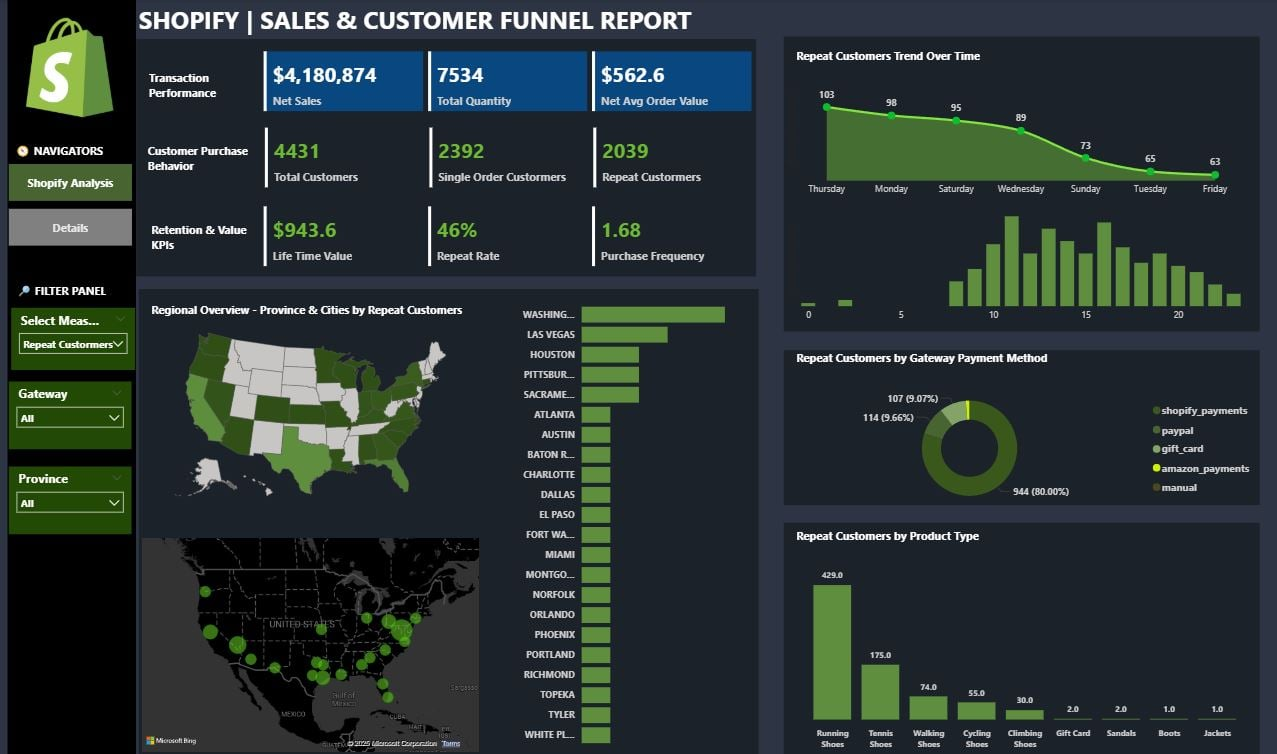

Layout of this report page (visuals, bound fields, positions):
{"tool":"powerbi","page":{"name":"Shopify Analysis","canvas":[1700,1000],"ordinal":0},"visuals":[{"type":"shape","box":[9.1,0,170,1000.5],"z":0},{"type":"textbox","box":[178.6,0,761.8,63.8],"z":1000},{"type":"shape","box":[180.2,52.9,820.1,314.2],"z":2000},{"type":"cardVisual","fields":{"Data":["shopify_sales.Net Sales","shopify_sales.Total Quantity","shopify_sales.Net Avg Order Value"]},"box":[343.9,64.5,656.4,89.3],"z":3000},{"type":"cardVisual","fields":{"Data":["shopify_sales.Transactipn Perf"]},"box":[180.2,64.5,162,89.3],"z":4000},{"type":"cardVisual","fields":{"Data":["shopify_sales.Total Customers","shopify_sales.Single Order Custormers","shopify_sales.Repeat Custormers"]},"box":[345.6,165.3,656.4,89.3],"z":5000},{"type":"cardVisual","fields":{"Data":["shopify_sales.Customer Purchase Behavior"]},"box":[178.6,165.3,185.2,104.2],"z":6000},{"type":"cardVisual","fields":{"Data":["shopify_sales.Avg LTV","shopify_sales.Repeat Rate","shopify_sales.Purchase Frequency"]},"box":[344.3,269.3,656.4,89.3],"z":7000},{"type":"cardVisual","fields":{"Data":["shopify_sales.RetentionValue"]},"box":[183.9,269.3,160.4,89.3],"z":8000},{"type":"shape","box":[183.5,383.6,820.1,616.7],"z":9000},{"type":"shapeMap","fields":{"Value":["shopify_sales.Net Sales"],"Category":["shopify_sales.Billing Address Province"]},"box":[183.5,424.9,454.7,249.7],"z":10000},{"type":"slicer","fields":{"Values":["Select Measure.Select Measure"]},"box":[14.9,408.4,163.7,82.7],"z":11000},{"type":"map","fields":{"Size":["shopify_sales.Net Sales"],"Category":["shopify_sales.Location"]},"box":[183.5,707.7,454.7,292.7],"z":12000},{"type":"clusteredBarChart","fields":{"Y":["shopify_sales.Net Sales"],"Category":["shopify_sales.CITY"]},"box":[674.6,383.6,327.4,616.7],"z":13000},{"type":"cardVisual","fields":{"Data":["shopify_sales.Map Title"]},"box":[183.5,375.3,469.6,64.5],"z":14000},{"type":"shape","box":[1036.7,49.6,630,390.2],"z":15000},{"type":"areaChart","fields":{"Y":["shopify_sales.Net Sales"],"Category":["shopify_sales.DayOfWeekName"]},"box":[1036.7,90.9,610.1,178.6],"z":16000},{"type":"columnChart","fields":{"Y":["shopify_sales.Net Sales"],"Category":["shopify_sales.Hour"]},"box":[1036.7,269.5,610.1,167],"z":17000},{"type":"cardVisual","fields":{"Data":["shopify_sales.Trend Title"]},"box":[1036.7,39.7,400.1,51.3],"z":18000},{"type":"shape","box":[1036.7,464.6,630,205],"z":19000},{"type":"donutChart","fields":{"Y":["shopify_sales.Net Sales"],"Category":["shopify_sales.Gateway"]},"box":[1036.7,509.3,630,170.3],"z":20000},{"type":"cardVisual","fields":{"Data":["shopify_sales.Gateway Title Payment"]},"box":[1036.7,439.8,400.1,51.3],"z":21000},{"type":"shape","box":[1036.7,692.8,630,307.5],"z":22000},{"type":"clusteredColumnChart","fields":{"Y":["shopify_sales.Net Sales"],"Category":["shopify_sales.Product Type"]},"box":[1036.7,739.1,630,261.2],"z":23000},{"type":"cardVisual","fields":{"Data":["shopify_sales.Product Title"]},"box":[1036.7,674.6,400.1,51.3],"z":24000},{"type":"image","box":[21.5,19.8,142.2,142.2],"z":25000},{"type":"slicer","fields":{"Values":["shopify_sales.Gateway"]},"box":[11.6,506,162,89.3],"z":25001},{"type":"slicer","fields":{"Values":["shopify_sales.Billing Address Province"]},"box":[11.6,618.4,162,89.3],"z":25002},{"type":"pageNavigator","box":[11.6,218.3,163.7,109.1],"z":25003},{"type":"cardVisual","fields":{"Data":["shopify_sales.SectionTitle"]},"box":[3.3,165.3,183.5,64.5],"z":25004},{"type":"cardVisual","fields":{"Data":["shopify_sales.SectionTitle1"]},"box":[5,350.5,183.5,64.5],"z":25006}]}

Visuals, with their boxes in screenshot pixels (x1, y1, x2, y2), scaled from the page's 1700x1000 canvas onto the 1277x754 screenshot:
shape: [7, 0, 135, 753]
textbox: [134, 0, 706, 48]
shape: [135, 40, 751, 277]
cardVisual - shopify_sales.Net Sales x shopify_sales.Total Quantity: [258, 49, 751, 116]
cardVisual - shopify_sales.Transactipn Perf: [135, 49, 257, 116]
cardVisual - shopify_sales.Total Customers x shopify_sales.Single Order Custormers: [260, 125, 753, 192]
cardVisual - shopify_sales.Customer Purchase Behavior: [134, 125, 273, 203]
cardVisual - shopify_sales.Avg LTV x shopify_sales.Repeat Rate: [259, 203, 752, 270]
cardVisual - shopify_sales.RetentionValue: [138, 203, 259, 270]
shape: [138, 289, 754, 753]
shapeMap - shopify_sales.Net Sales x shopify_sales.Billing Address Province: [138, 320, 479, 509]
slicer - Select Measure.Select Measure: [11, 308, 134, 370]
map - shopify_sales.Net Sales x shopify_sales.Location: [138, 534, 479, 753]
clusteredBarChart - shopify_sales.Net Sales x shopify_sales.CITY: [507, 289, 753, 753]
cardVisual - shopify_sales.Map Title: [138, 283, 491, 332]
shape: [779, 37, 1252, 332]
areaChart - shopify_sales.Net Sales x shopify_sales.DayOfWeekName: [779, 69, 1237, 203]
columnChart - shopify_sales.Net Sales x shopify_sales.Hour: [779, 203, 1237, 329]
cardVisual - shopify_sales.Trend Title: [779, 30, 1079, 69]
shape: [779, 350, 1252, 505]
donutChart - shopify_sales.Net Sales x shopify_sales.Gateway: [779, 384, 1252, 512]
cardVisual - shopify_sales.Gateway Title Payment: [779, 332, 1079, 370]
shape: [779, 522, 1252, 753]
clusteredColumnChart - shopify_sales.Net Sales x shopify_sales.Product Type: [779, 557, 1252, 753]
cardVisual - shopify_sales.Product Title: [779, 509, 1079, 547]
image: [16, 15, 123, 122]
slicer - shopify_sales.Gateway: [9, 382, 130, 449]
slicer - shopify_sales.Billing Address Province: [9, 466, 130, 534]
pageNavigator: [9, 165, 132, 247]
cardVisual - shopify_sales.SectionTitle: [2, 125, 140, 173]
cardVisual - shopify_sales.SectionTitle1: [4, 264, 142, 313]
